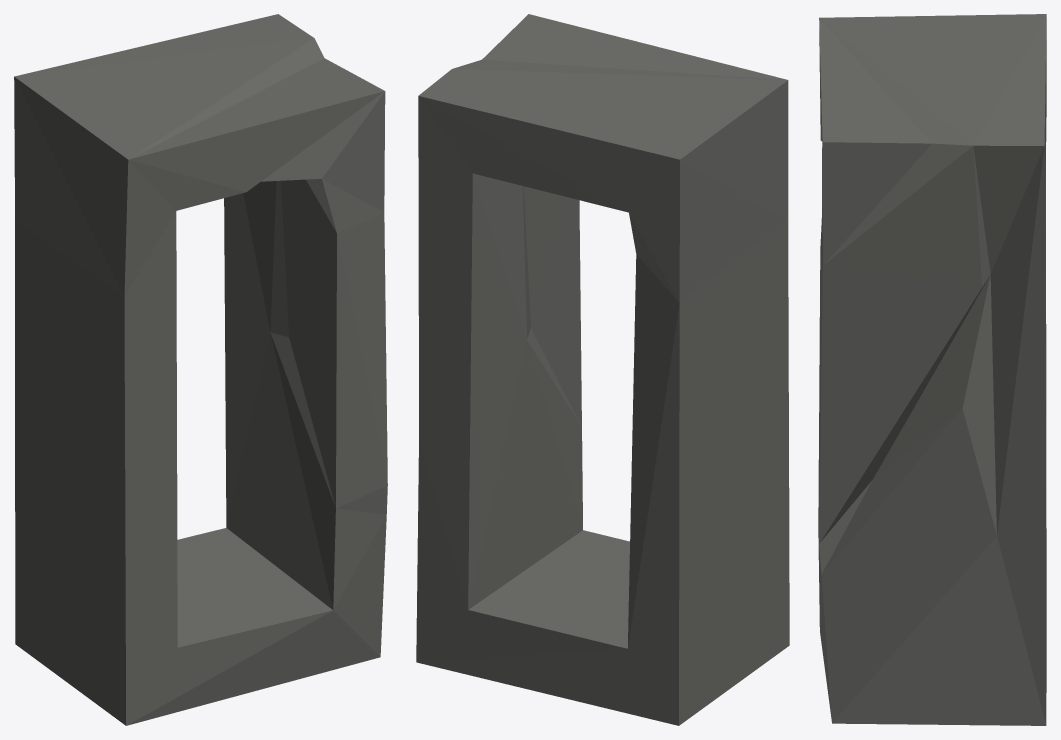
Rendered from YN_Chain.fbx.
3 views of the same model, side by side, from view 1: azimuth 30°, elevation 25°; view 2: azimuth 150°, elevation 25°; view 3: azimuth 270°, elevation 25° (orthographic). The views are drawn at different scales.
Parts seen in each view (by area): view 1: YN_Chain; view 2: YN_Chain; view 3: YN_Chain.
Part boxes in pixels (left/top/right/bottom): YN_Chain: left=14, top=14, right=387, bottom=725; YN_Chain: left=416, top=14, right=789, bottom=725; YN_Chain: left=818, top=14, right=1046, bottom=725.
Size of the model in its own units: 1.08 by 2.23 by 0.7911.
